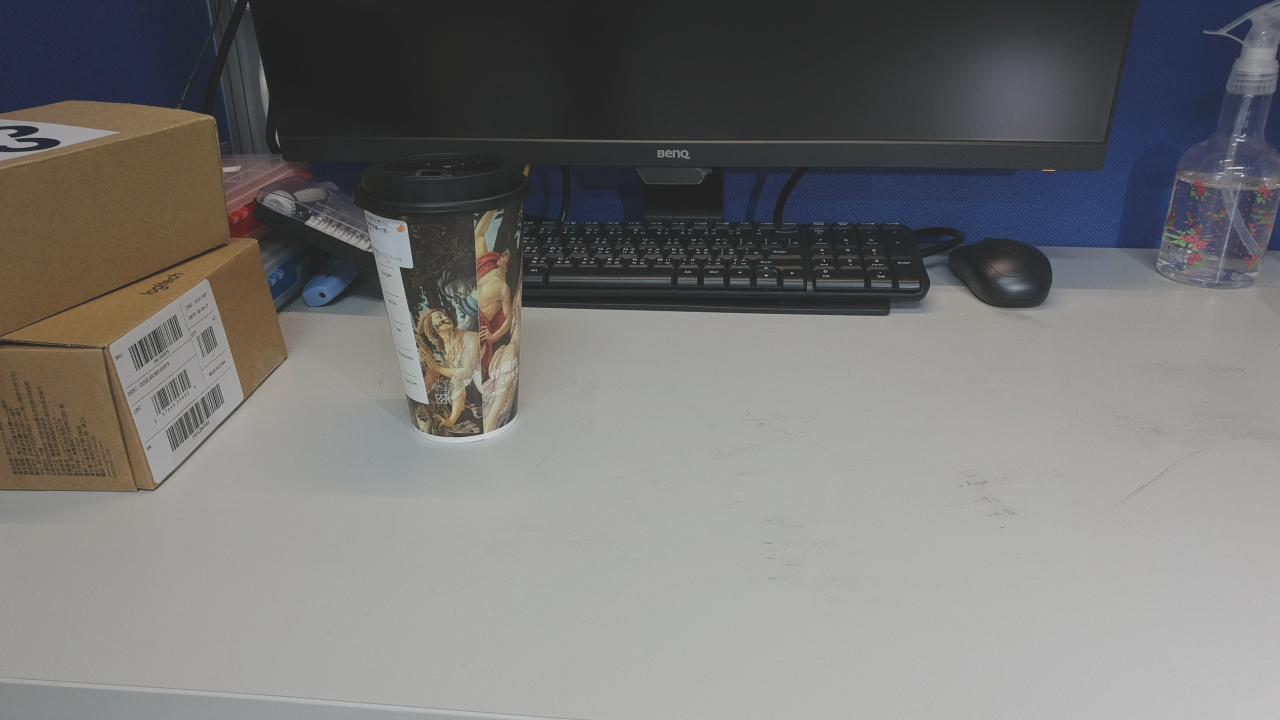circle: (765, 577, 882, 690)
